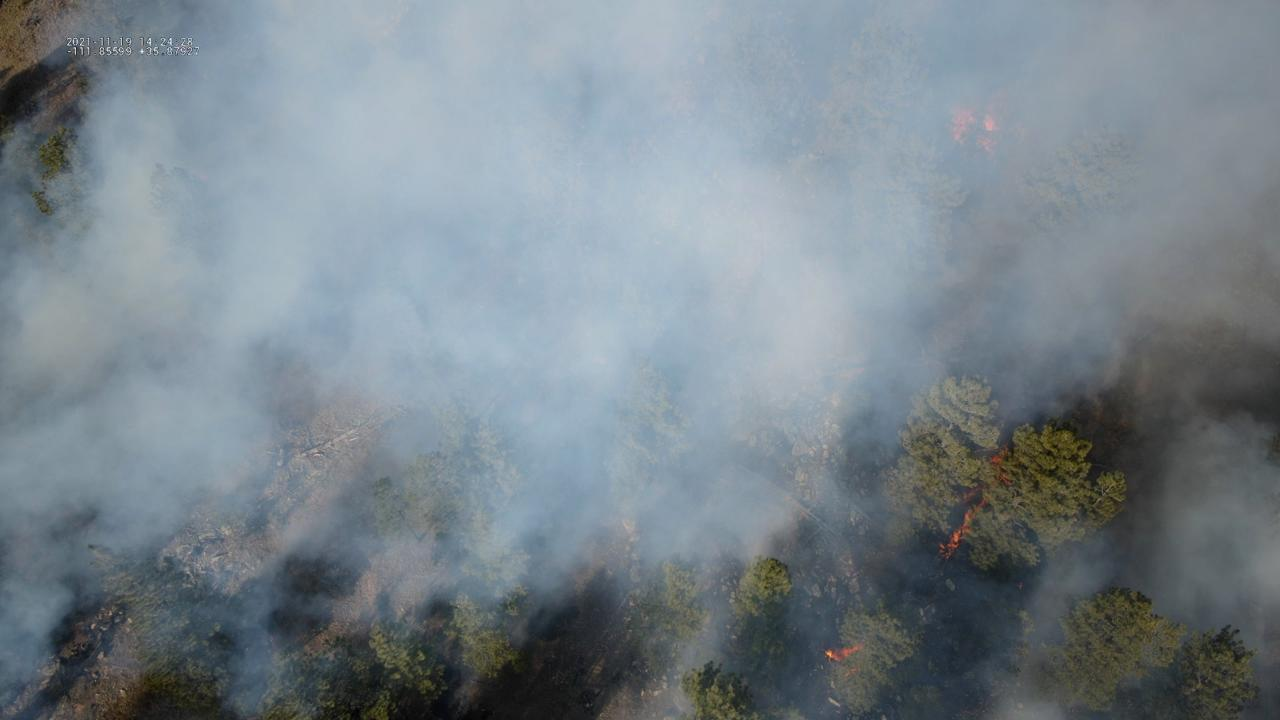fire: (937, 508, 978, 561), (950, 109, 975, 143), (824, 642, 864, 662), (990, 443, 1010, 467), (998, 472, 1013, 487), (983, 116, 997, 132), (1017, 582, 1025, 590)
smoke: (0, 0, 1280, 720)
